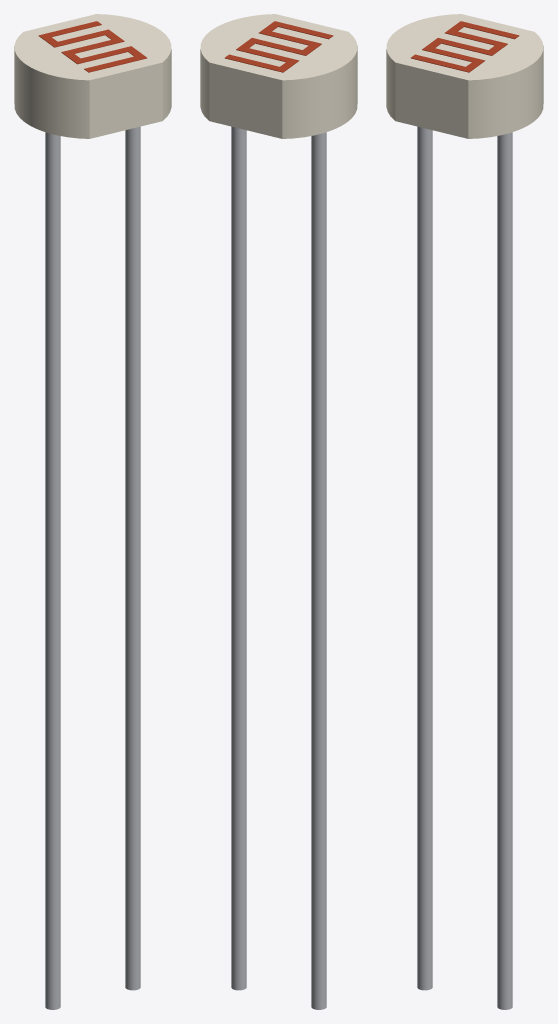
Rendered from ldr-5mm.glb.
3 views of the same model, side by side, from view 1: azimuth 30°, elevation 25°; view 2: azimuth 150°, elevation 25°; view 3: azimuth 330°, elevation 25° (orthographic).
Visible parts, largest first — view 1: object 1, lead-1, lead-2, object 2; view 2: object 1, lead-1, lead-2, object 2; view 3: object 1, lead-2, lead-1, object 2.
Boxes of the visible parts, left/top/right/bottom form: object 1: left=14, top=14, right=171, bottom=138; lead-1: left=45, top=132, right=60, bottom=1009; lead-2: left=125, top=126, right=140, bottom=990; object 2: left=38, top=21, right=146, bottom=72; object 1: left=200, top=14, right=357, bottom=138; lead-1: left=311, top=132, right=326, bottom=1009; lead-2: left=231, top=126, right=246, bottom=990; object 2: left=225, top=21, right=333, bottom=72; object 1: left=386, top=14, right=543, bottom=138; lead-2: left=497, top=132, right=512, bottom=1009; lead-1: left=417, top=126, right=432, bottom=990; object 2: left=411, top=21, right=519, bottom=72.
Size of the model in its own units: 0.0051 by 0.034 by 0.0043.
